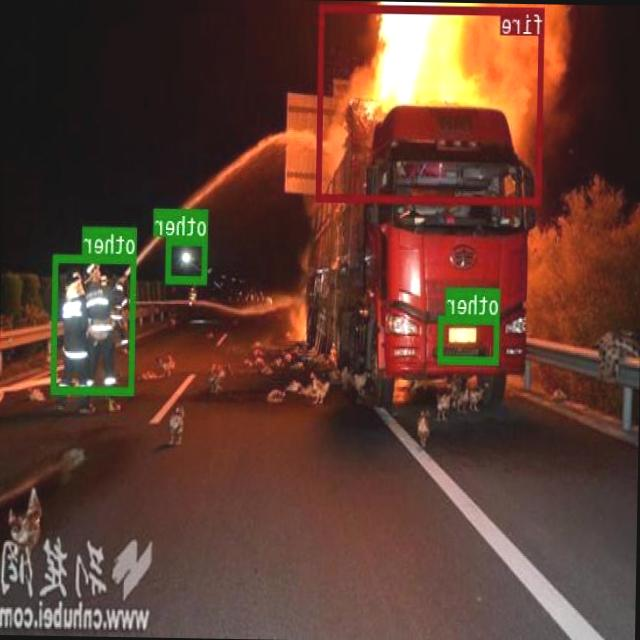fire: (318, 2, 544, 204)
